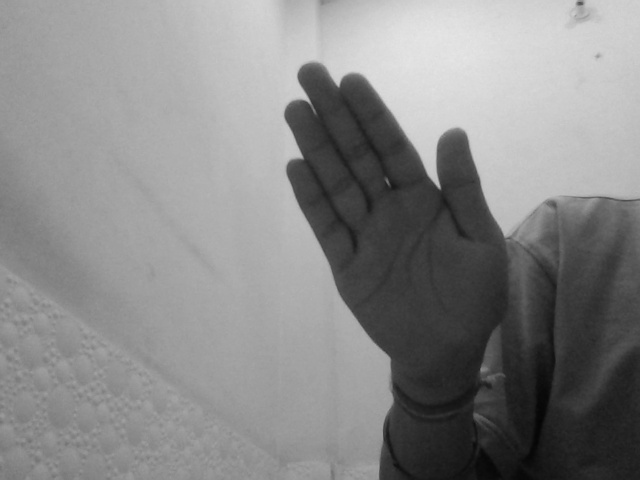Hello: (280, 55, 510, 391)
